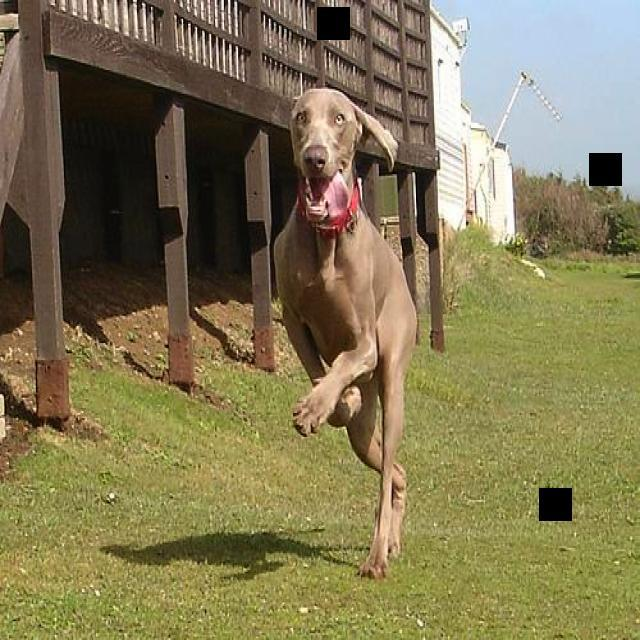adult_dog: (270, 87, 416, 581)
